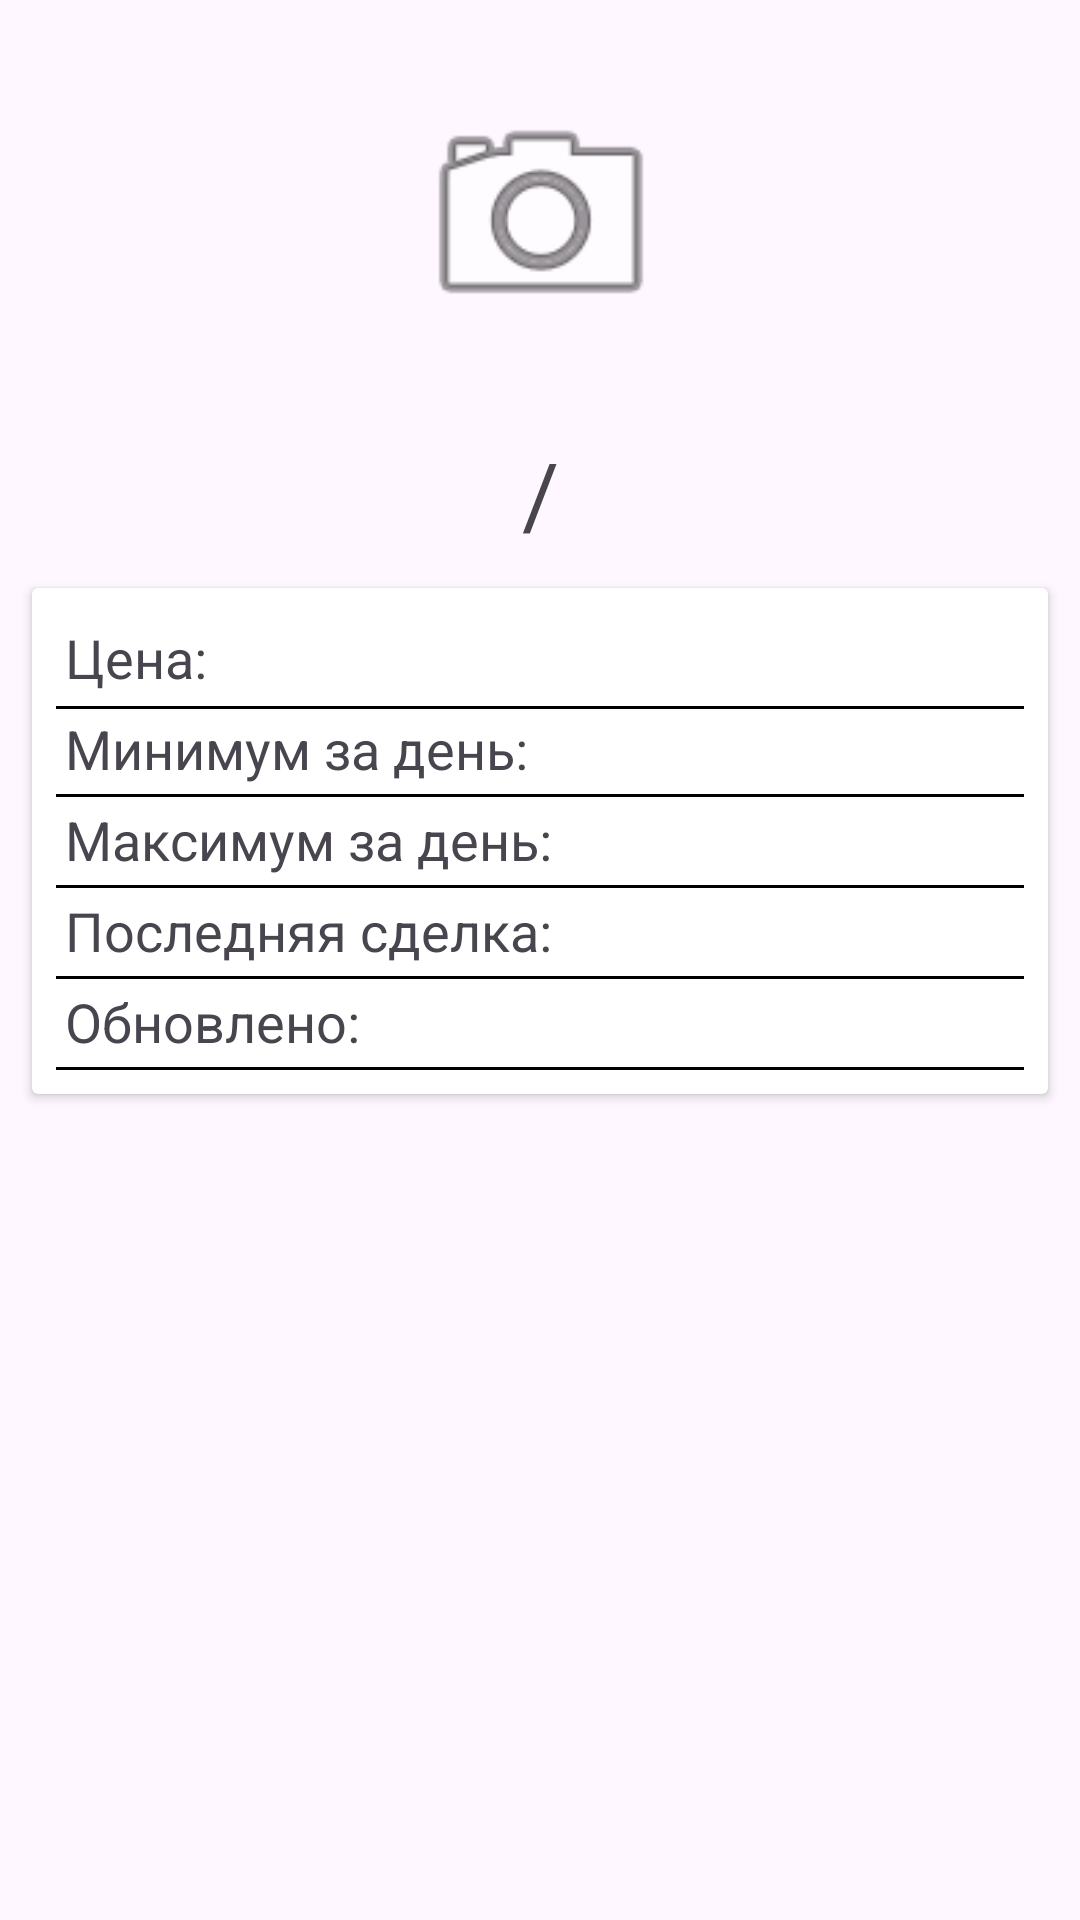

Where to tap for icons on this 1080×1920 app screen, as (x,y):
camera: (541,211)
